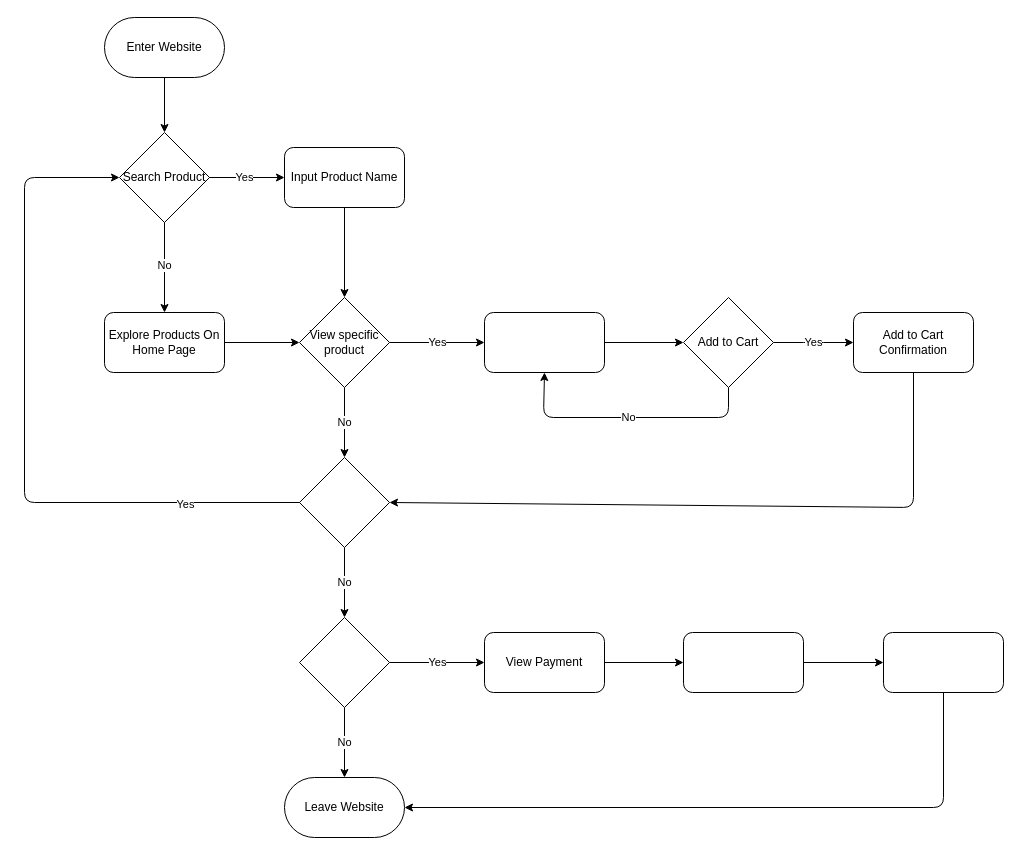
This 1021x855 diagram has some shape labels left out. Each missing label, with the centre of its shape:
"Checkout" goes at (x=344, y=662).
"Continue shopping" goes at (x=344, y=502).
"Input Payment Information" goes at (x=743, y=662).
"Order Confirmation and Email" goes at (x=943, y=662).
"Product's Webpage Will Open" goes at (x=544, y=342).
